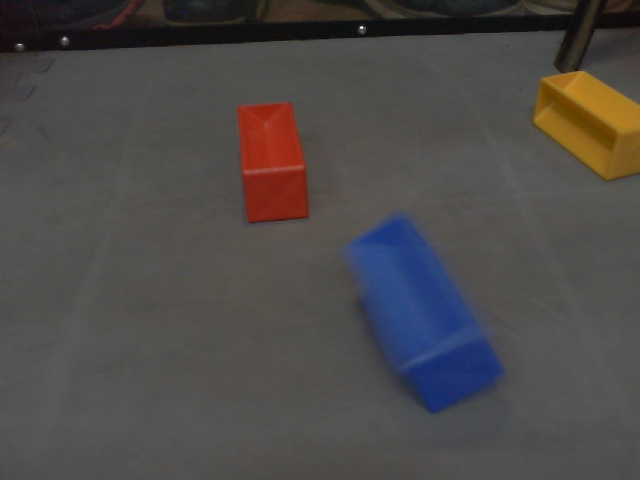BlueSample: (342, 213, 507, 416)
RedSample: (234, 100, 313, 224)
YellowSample: (530, 68, 640, 181)
